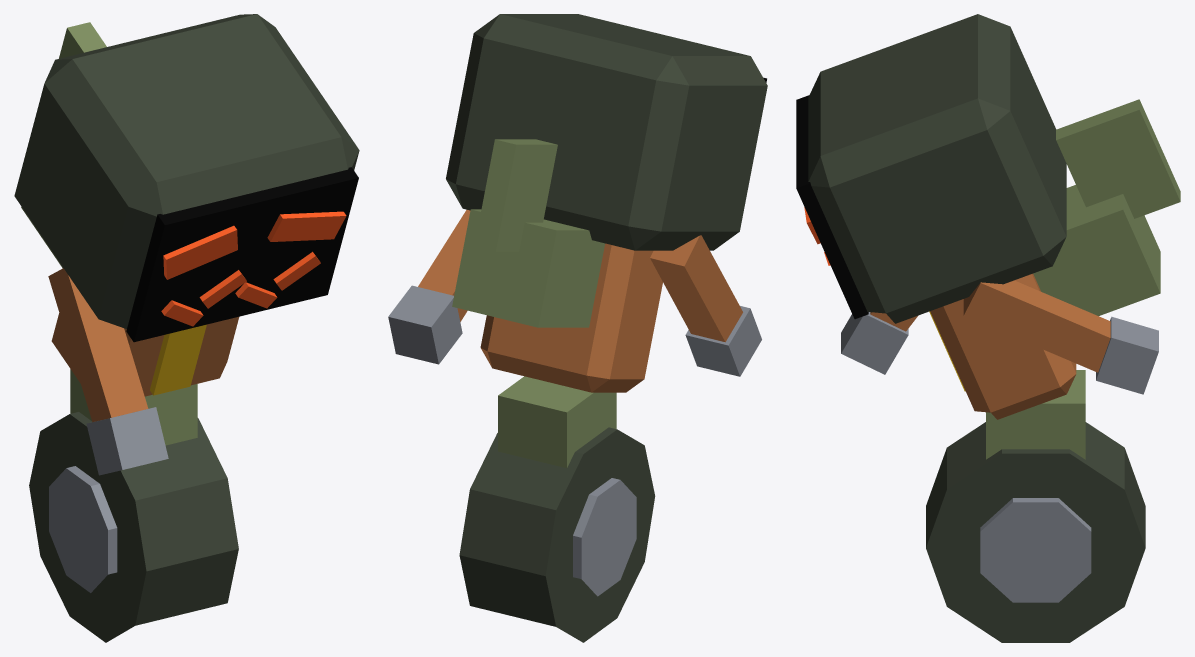
Rendered from scout_r7.glb.
3 renders of one model, left to right at view 1: azimuth 30°, elevation 25°; view 2: azimuth 150°, elevation 25°; view 3: azimuth 270°, elevation 25°, orthographic. The views are drawn at different scales.
Parts seen in each view (by area): view 1: scout_r7_mesh; view 2: scout_r7_mesh; view 3: scout_r7_mesh.
Part boxes in pixels (x1,y1,x2,y2): scout_r7_mesh: (14, 14, 359, 642); scout_r7_mesh: (388, 14, 767, 642); scout_r7_mesh: (796, 14, 1180, 642).
Bounding box in the file's own units: 0.4801 × 1.2 × 0.7389.
Materials: 1 (1 with a texture image).
